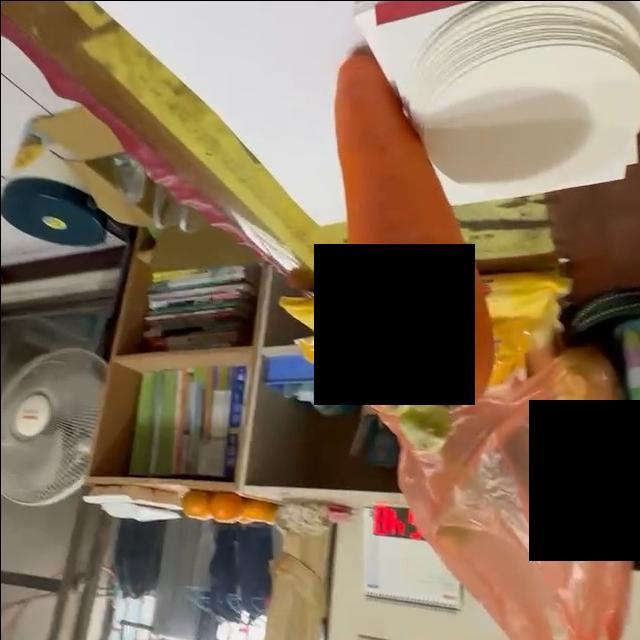carrot: (330, 51, 496, 454)
